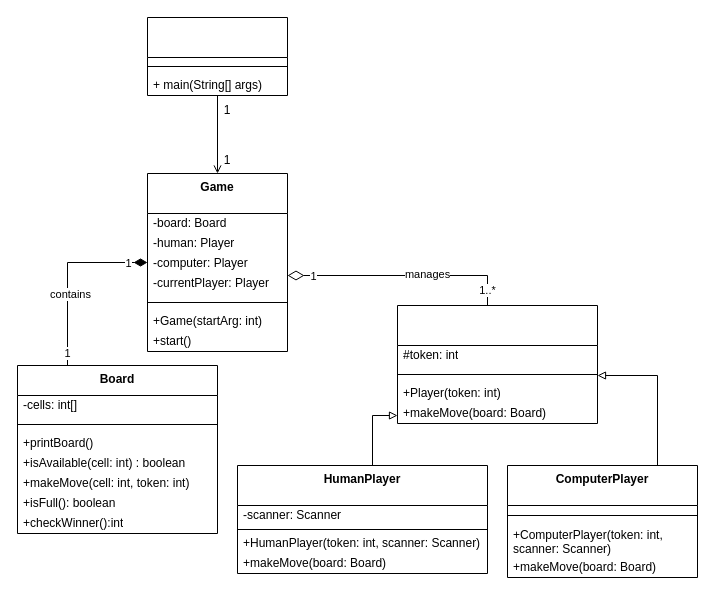
This 715x595 diagram has some shape labels left out. Each missing label, with the box of its shape:
<<abstract>> Player: (396, 304, 598, 424)
App: (146, 16, 288, 96)
